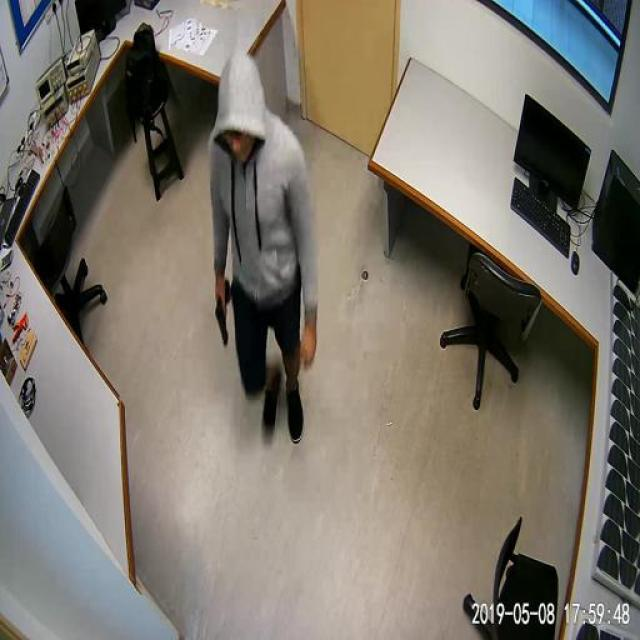Gun: (202, 274, 246, 347)
